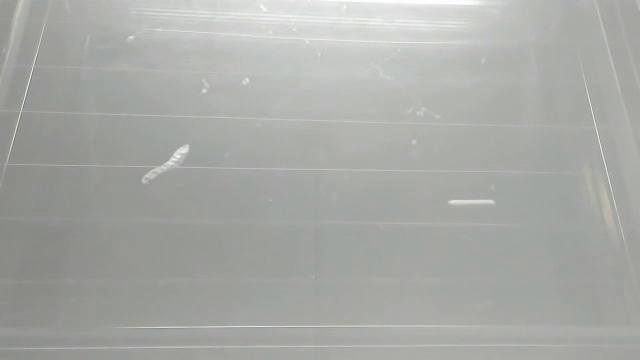alpha: (137, 141, 192, 187), (443, 194, 501, 215)
